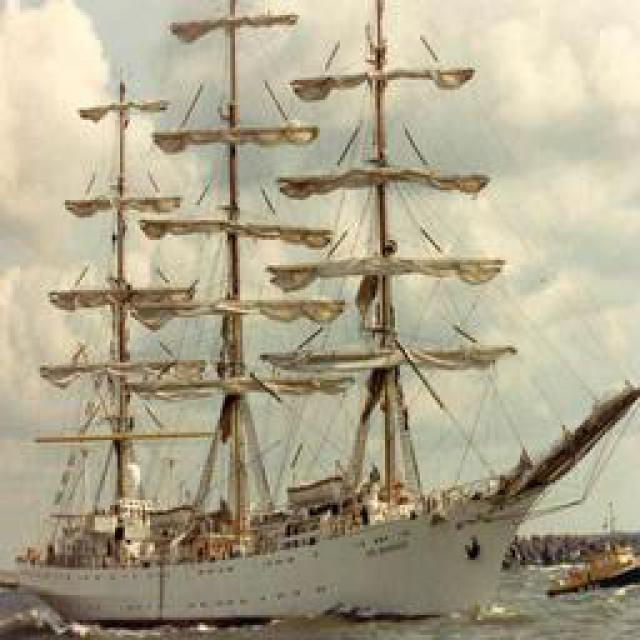Ship: (11, 21, 609, 621)
